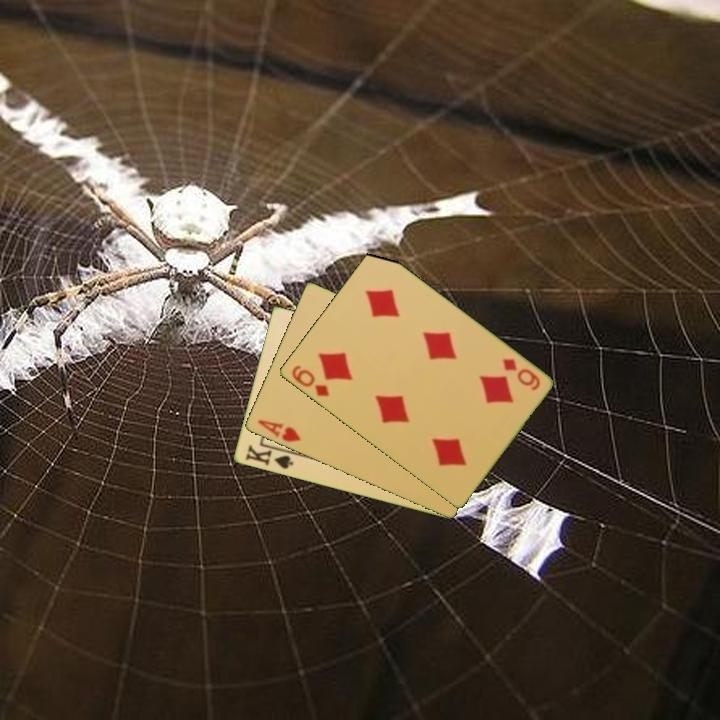6d: (498, 355, 543, 393), (288, 362, 332, 400)
Ah: (254, 416, 303, 445)
Ks: (242, 441, 298, 472)
